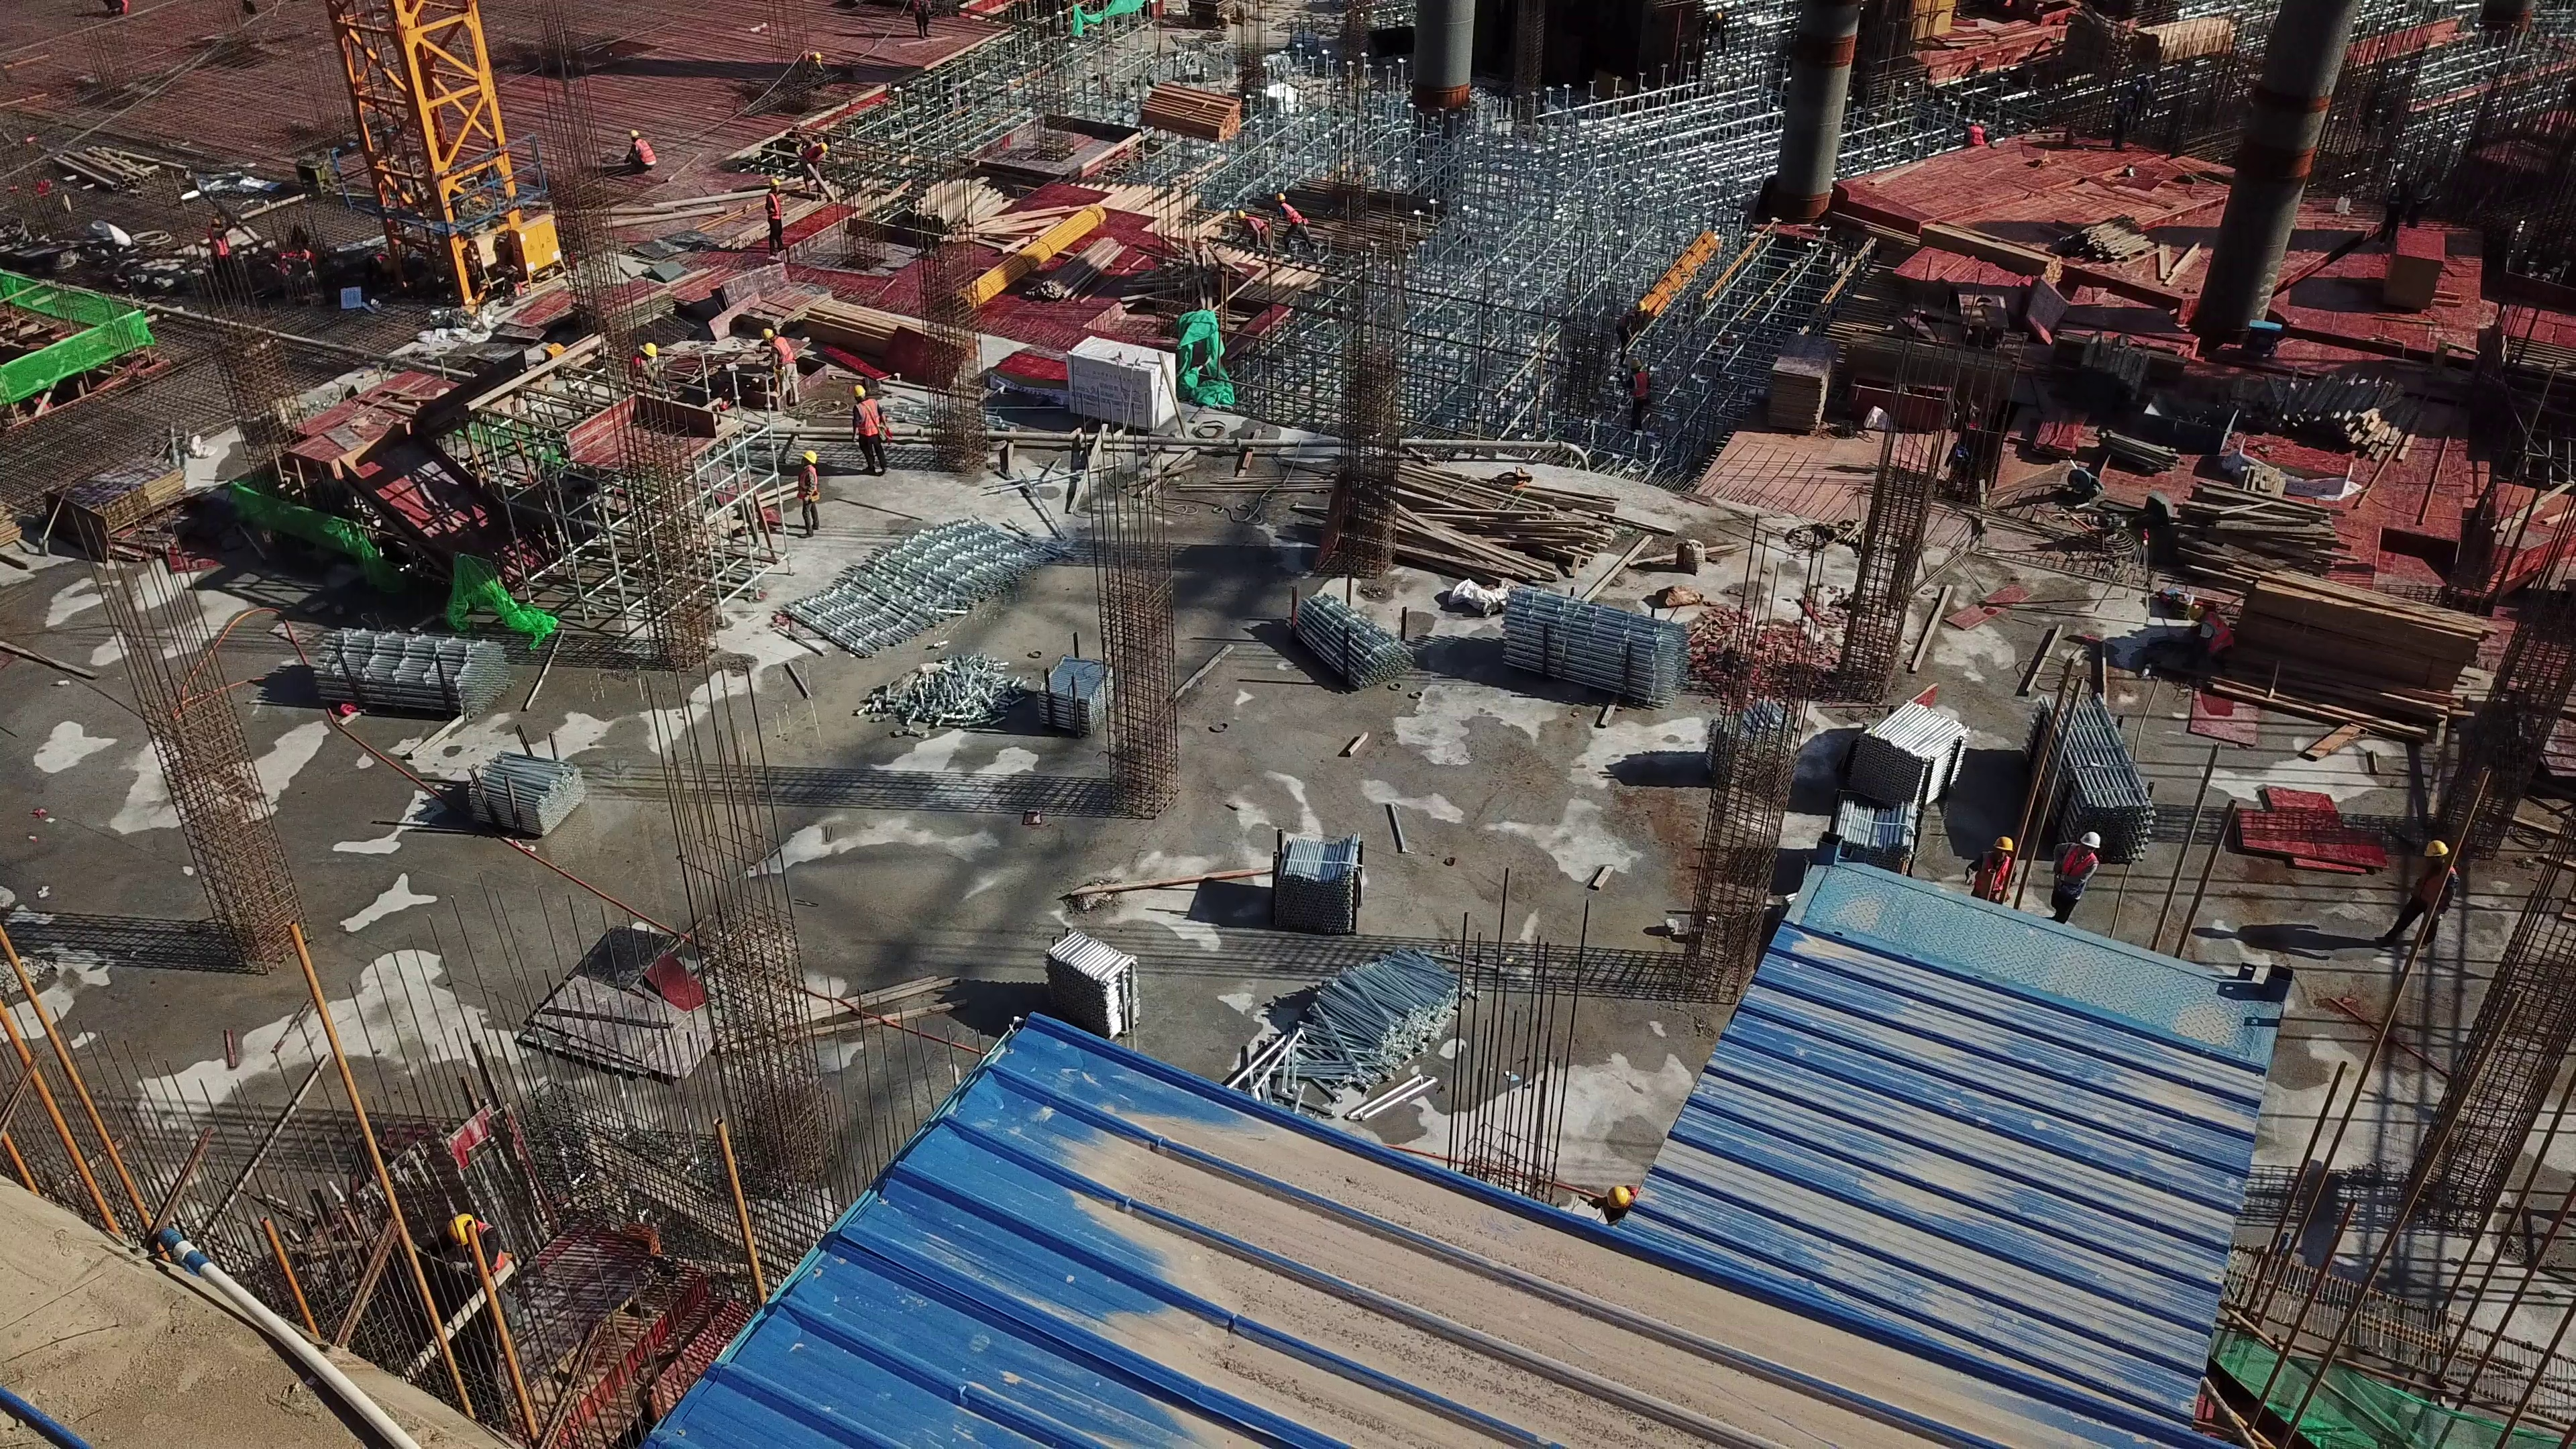board: (49, 448, 183, 541), (1764, 322, 1829, 441), (2391, 228, 2443, 303)
ebox: (503, 216, 568, 290)
helmet: (1603, 1178, 1639, 1222), (444, 1216, 482, 1246), (1991, 830, 2021, 859), (2418, 834, 2449, 860), (2072, 828, 2100, 852), (639, 337, 659, 362), (798, 447, 820, 468), (758, 322, 775, 343), (1619, 358, 1640, 376), (848, 380, 867, 398), (813, 136, 829, 155), (806, 48, 822, 66), (1631, 297, 1646, 317), (765, 180, 783, 191), (626, 129, 637, 141), (211, 221, 221, 231)
person: (2390, 830, 2457, 946), (2039, 833, 2100, 930), (1957, 814, 2021, 907), (758, 310, 805, 421), (843, 383, 895, 482), (454, 1212, 521, 1287), (1275, 191, 1318, 290), (1219, 208, 1286, 266), (790, 453, 828, 543), (200, 219, 237, 293), (761, 164, 788, 264), (1617, 357, 1648, 431), (1606, 295, 1647, 349), (799, 140, 826, 202), (624, 127, 655, 175), (797, 49, 822, 80)
scaffold: (1269, 928, 1458, 1132), (1505, 587, 1686, 721), (2033, 692, 2152, 859), (335, 616, 466, 721), (1277, 604, 1411, 695), (1852, 701, 1968, 806), (1040, 928, 1143, 1041), (467, 747, 583, 848), (1275, 827, 1378, 928), (1032, 649, 1122, 732), (1832, 789, 1915, 873)
vest: (2413, 861, 2461, 921), (471, 1219, 515, 1281), (1973, 855, 2015, 903), (2057, 846, 2093, 892), (796, 466, 828, 508), (857, 398, 884, 443), (770, 339, 801, 376), (1611, 317, 1645, 344), (204, 232, 232, 264), (1626, 376, 1649, 412), (631, 141, 655, 167), (767, 191, 783, 229), (805, 146, 821, 176)
wood: (2196, 485, 2467, 718), (1336, 444, 1624, 590), (805, 299, 983, 389), (1843, 327, 2015, 412), (2243, 377, 2426, 450), (901, 176, 1050, 249), (2070, 213, 2193, 293), (1128, 85, 1246, 149), (2080, 331, 2149, 415), (2139, 25, 2253, 74)
